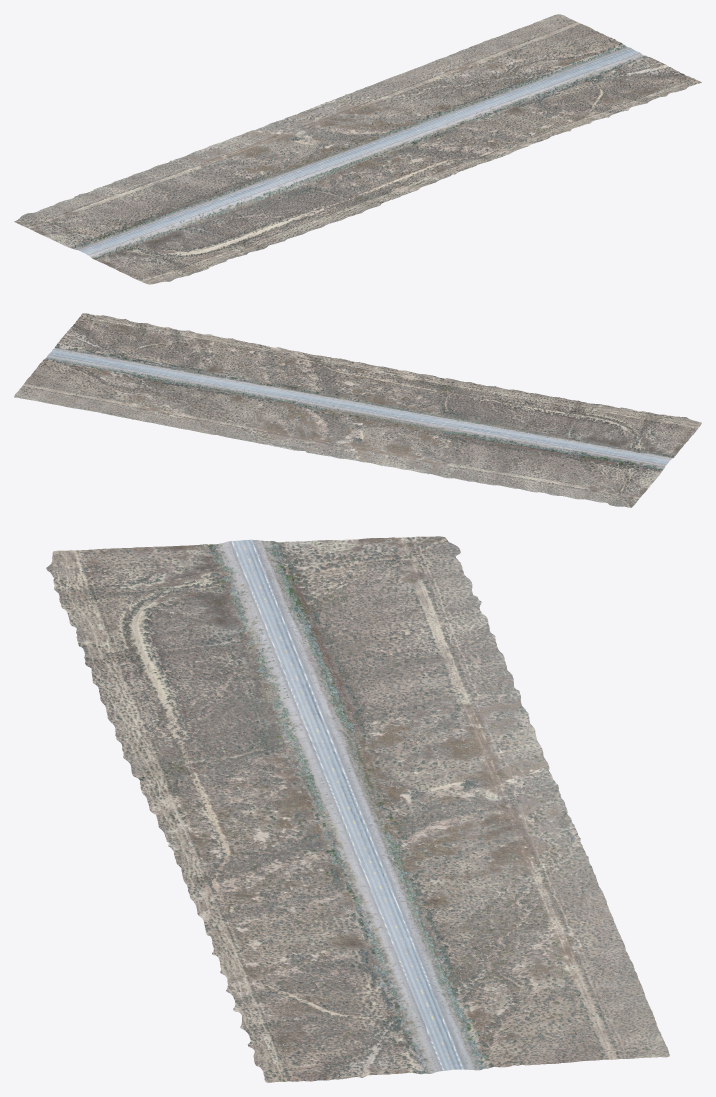
The model's file is highway_50_-_near_cold_springs (1).glb.
3 views of the same model, one above another, from view 1: azimuth 30°, elevation 25°; view 2: azimuth 150°, elevation 25°; view 3: azimuth 270°, elevation 25° (orthographic). The views are drawn at different scales.
Parts seen in each view (by area): view 1: mesh_out_node; view 2: mesh_out_node; view 3: mesh_out_node.
Boxes of the visible parts, box(x1,y1,x2,y2) form: mesh_out_node: box(14, 14, 701, 284); mesh_out_node: box(14, 313, 701, 507); mesh_out_node: box(46, 536, 669, 1082).
Bounding box in the file's own units: 1636 × 46.51 × 744.
Materials: 1 (1 with a texture image).
